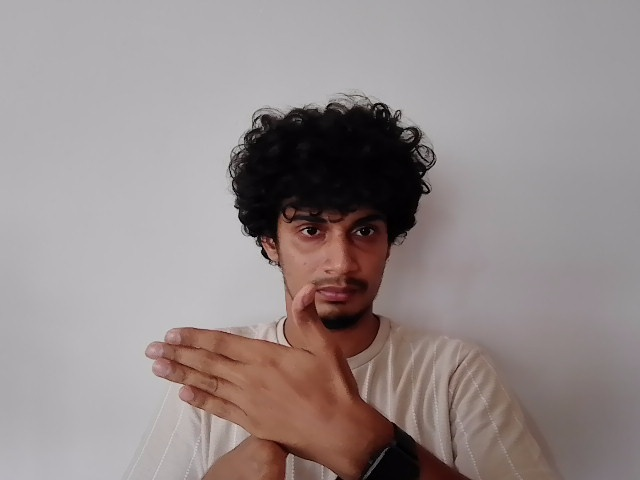busy: (144, 290, 368, 480)
